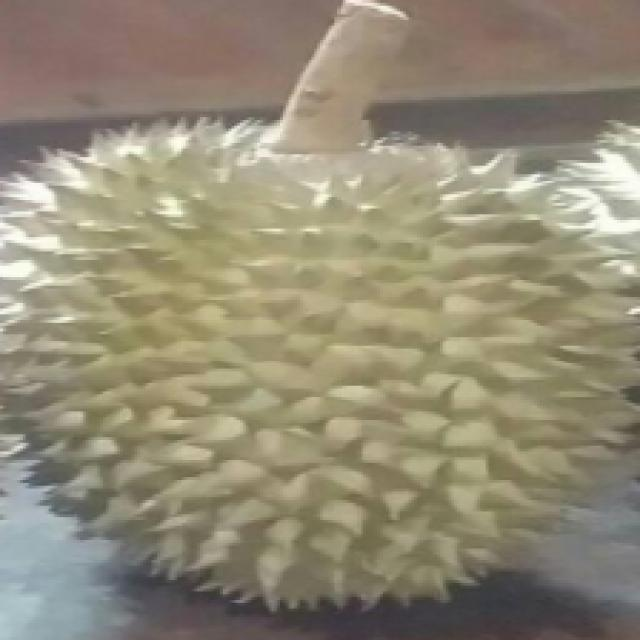d24: (7, 62, 607, 568)
